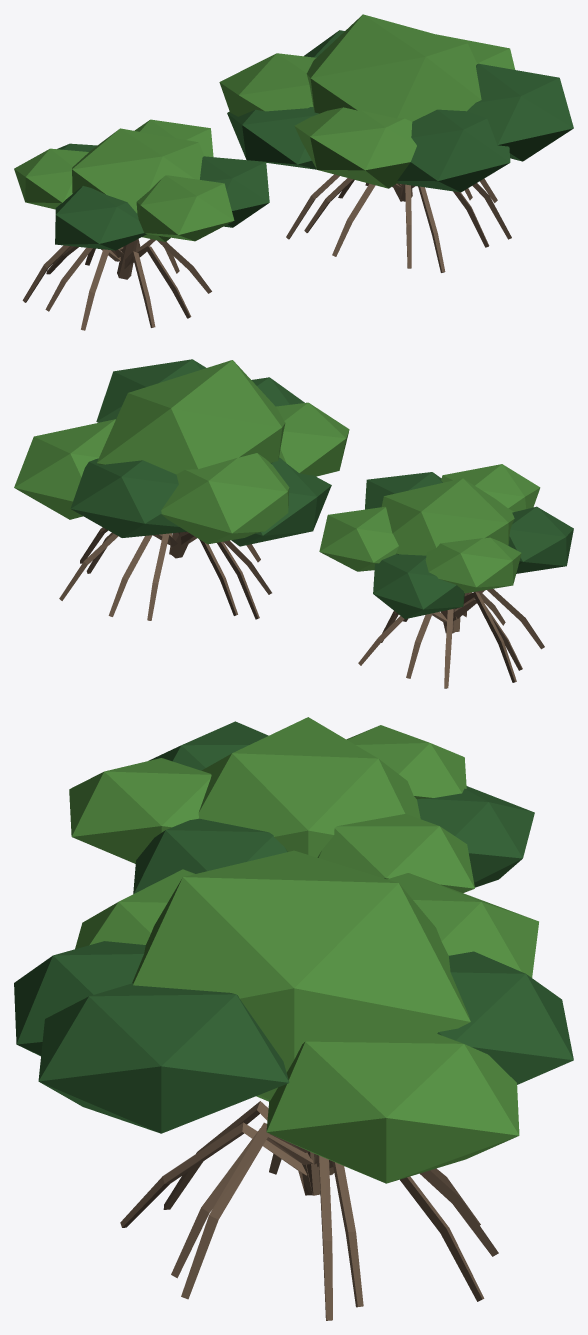
File: mangroves.glb
3 views of the same model, one above another, from view 1: azimuth 30°, elevation 25°; view 2: azimuth 150°, elevation 25°; view 3: azimuth 270°, elevation 25° (orthographic). The views are drawn at different scales.
Parts seen in each view (by area): view 1: mangrove_b_canopy, mangrove_a_canopy, mangrove_a_roots, mangrove_b_roots; view 2: mangrove_b_canopy, mangrove_a_canopy, mangrove_b_roots, mangrove_a_roots; view 3: mangrove_b_canopy, mangrove_a_canopy, mangrove_b_roots.
Boxes of the visible parts, left/top/right/bottom form: mangrove_b_canopy: left=219, top=14, right=573, bottom=192; mangrove_a_canopy: left=14, top=119, right=269, bottom=250; mangrove_a_roots: left=22, top=239, right=211, bottom=330; mangrove_b_roots: left=286, top=174, right=511, bottom=272; mangrove_b_canopy: left=14, top=359, right=349, bottom=546; mangrove_a_canopy: left=319, top=464, right=573, bottom=618; mangrove_b_roots: left=59, top=527, right=271, bottom=620; mangrove_a_roots: left=358, top=589, right=544, bottom=688; mangrove_b_canopy: left=14, top=850, right=573, bottom=1183; mangrove_a_canopy: left=69, top=717, right=534, bottom=893; mangrove_b_roots: left=120, top=1101, right=498, bottom=1320.
Size of the model in its own units: 10.63 by 4.16 by 6.
